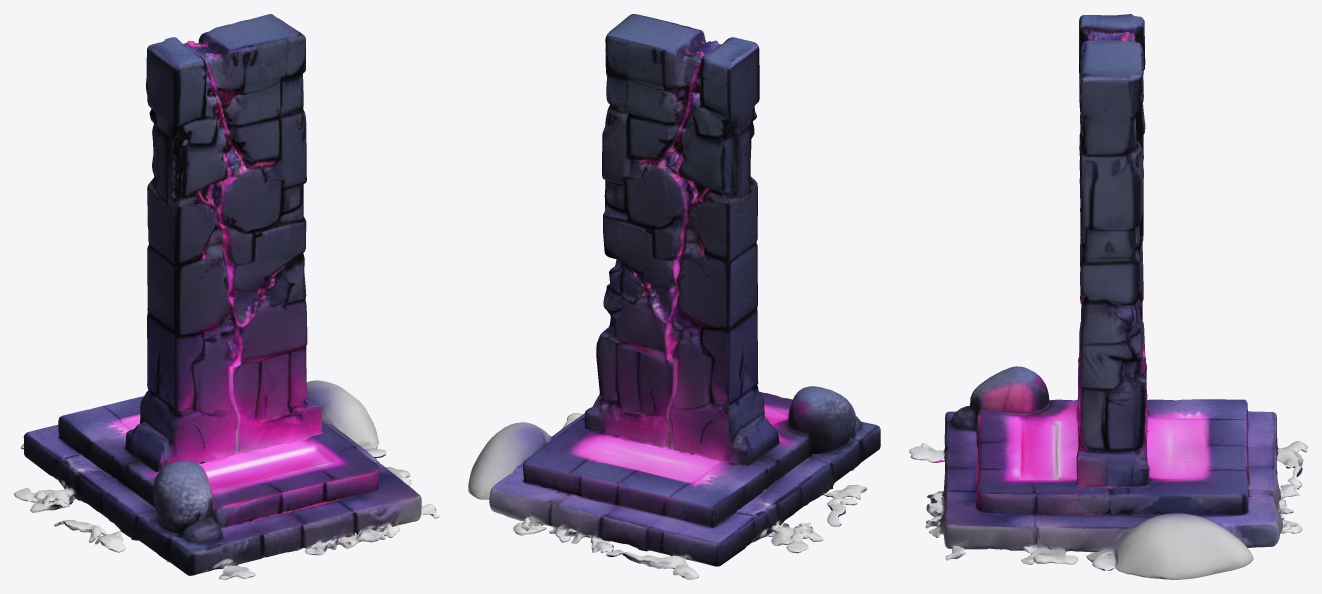
File: support-column-generated-2026-05-17T18-39-33-622Z.medium.glb
The picture shows the model from 3 angles, left to right: view 1: azimuth 30°, elevation 25°; view 2: azimuth 150°, elevation 25°; view 3: azimuth 270°, elevation 25°; orthographic projection.
Visible parts, largest first — view 1: temp_mesh.ply; view 2: temp_mesh.ply; view 3: temp_mesh.ply.
Part boxes in pixels (left/top/right/bottom): temp_mesh.ply: left=14, top=14, right=439, bottom=579; temp_mesh.ply: left=468, top=14, right=880, bottom=579; temp_mesh.ply: left=909, top=14, right=1307, bottom=579.
Size of the model in its own units: 1.56 by 1.97 by 1.57.
1 material, 1 textured.
